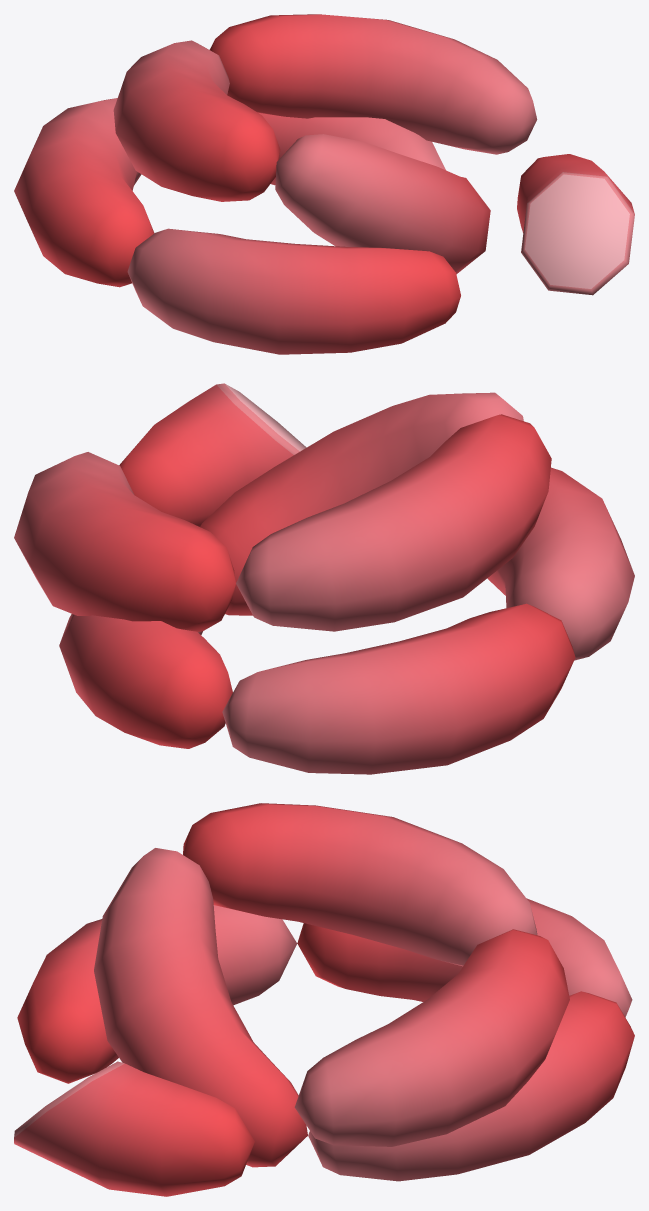
File: sasuage_006.fbx
3 views of the same model, one above another, from view 1: azimuth 30°, elevation 25°; view 2: azimuth 150°, elevation 25°; view 3: azimuth 270°, elevation 25° (orthographic). The views are drawn at different scales.
Visible parts, largest first — view 1: sasuage_006; view 2: sasuage_006; view 3: sasuage_006.
Boxes of the visible parts, x1=… form: sasuage_006: x1=14, y1=14, x2=634, y2=354; sasuage_006: x1=14, y1=383, x2=634, y2=774; sasuage_006: x1=14, y1=803, x2=634, y2=1196.
Size of the model in its own units: 20.37 by 21.2 by 9.3.
